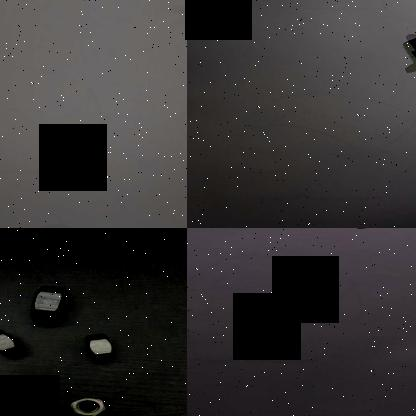NUTS: (26, 278, 72, 324), (80, 330, 116, 362), (4, 380, 51, 402), (65, 394, 107, 416), (0, 325, 24, 358)
